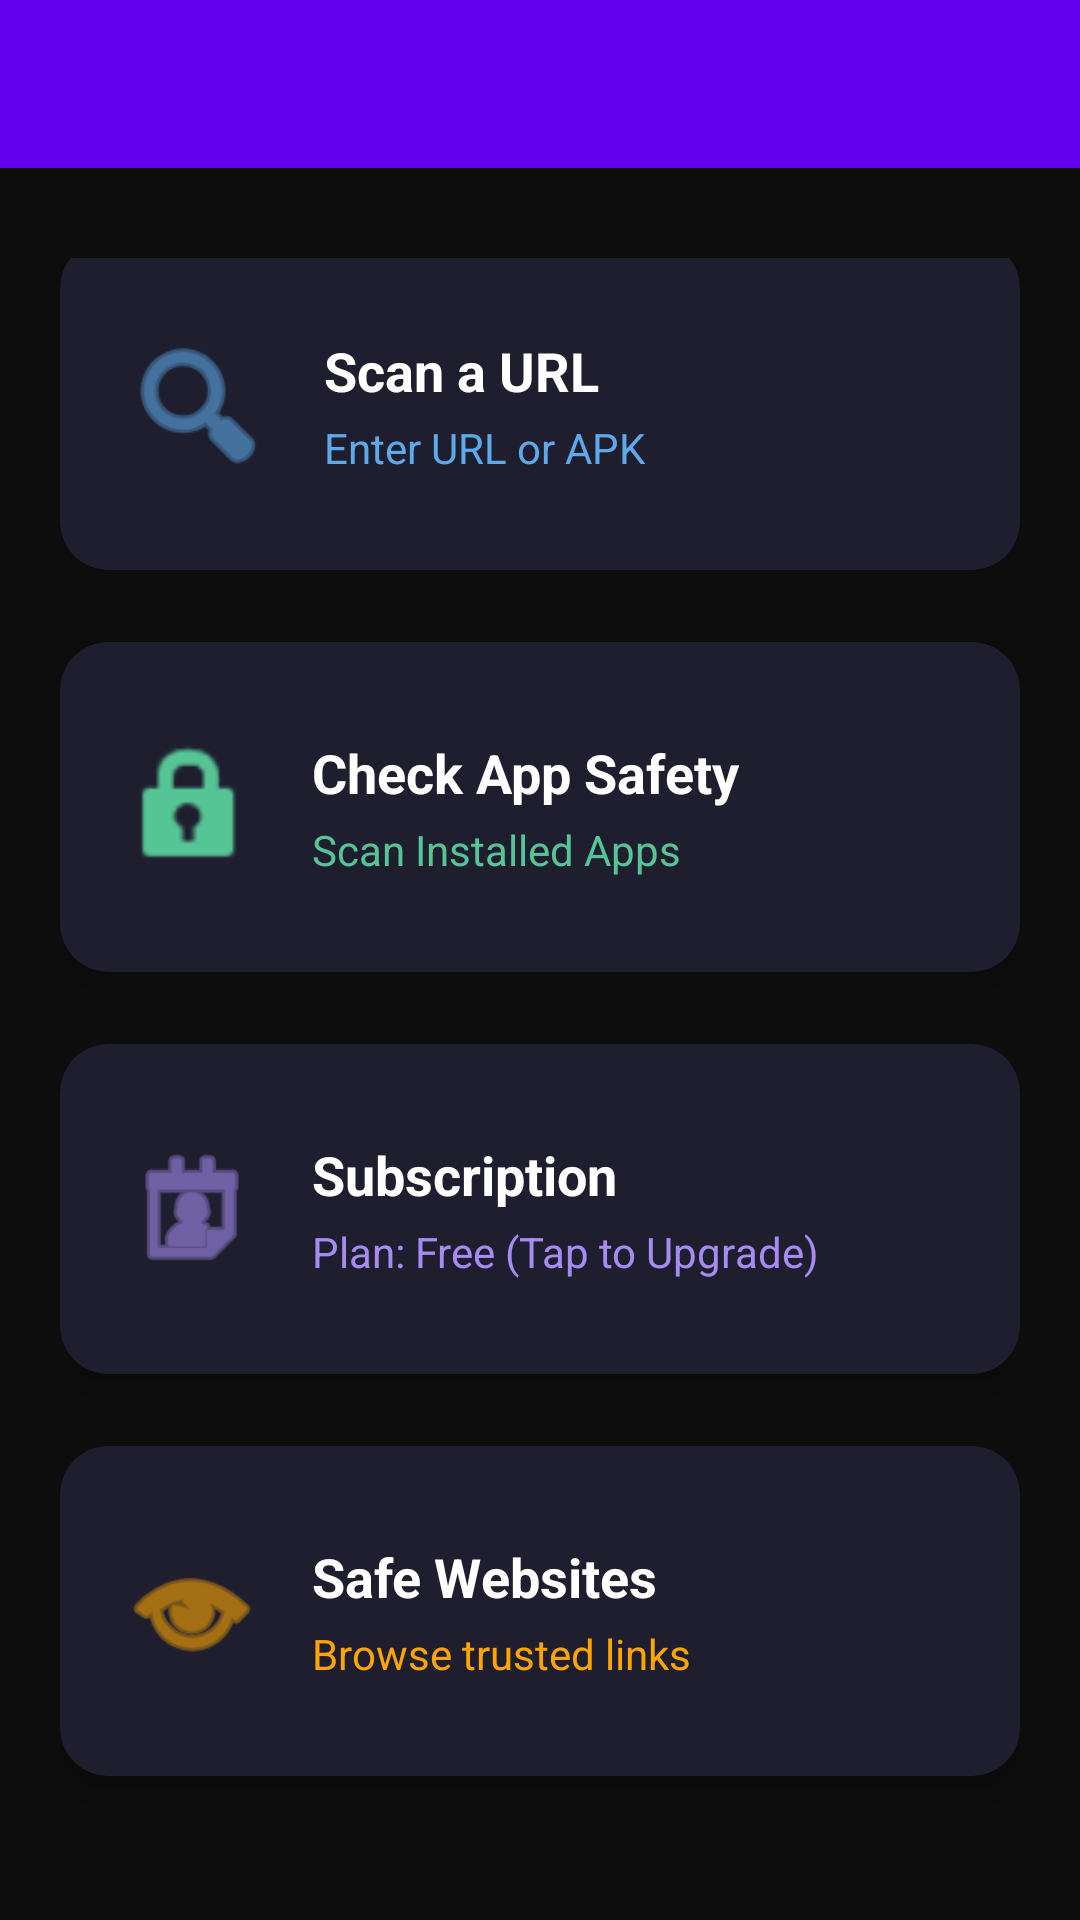

Icon click points for this 1080×1920 phone screenshot, format (x,y):
calendar: (192,1207)
lock idle: (188,803)
search: (198,406)
view: (192,1615)
